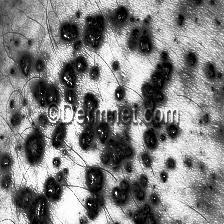Benign Marking or Mole: (0, 0, 220, 224)
